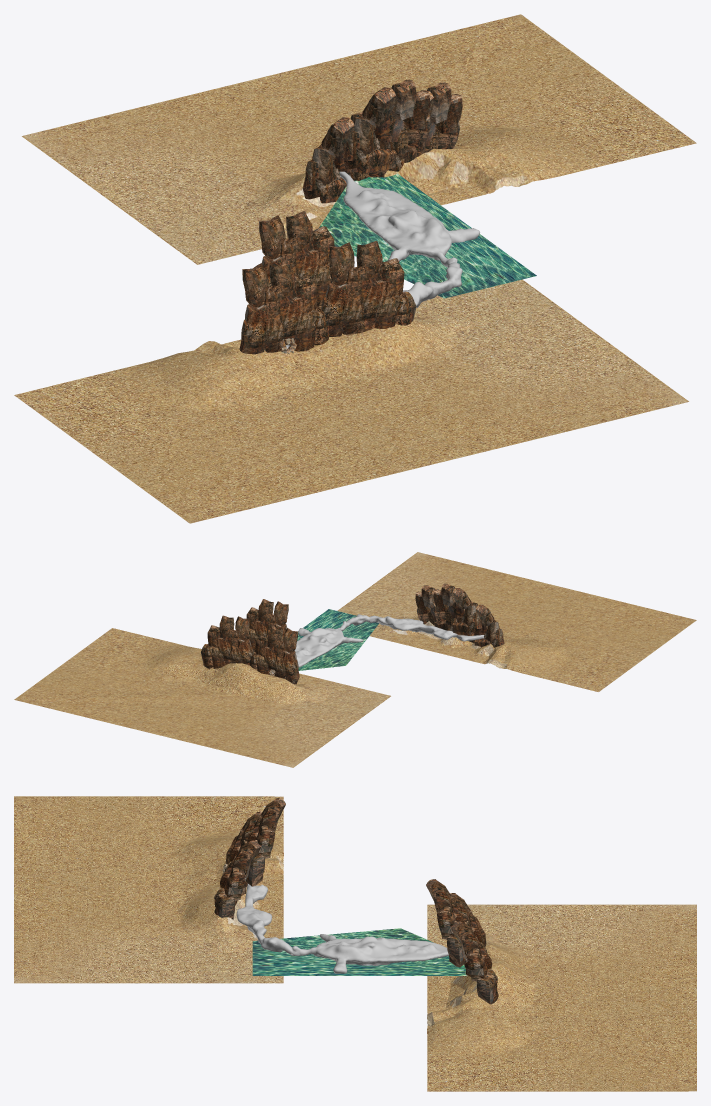
File: Map.fbx
3 views of the same model, one above another, from view 1: azimuth 30°, elevation 25°; view 2: azimuth 150°, elevation 25°; view 3: azimuth 270°, elevation 25° (orthographic). The views are drawn at different scales.
Parts seen in each view (by area): view 1: Plane.001, Cube.001, Plane, Cube; view 2: Plane.001, Cube.001, Cube, Plane; view 3: Plane.001, Cube.001, Cube, Plane.
Part boxes in pixels (x1=…): Plane.001: x1=14, y1=14, x2=696, y2=523; Cube.001: x1=239, y1=79, x2=462, y2=354; Plane: x1=319, y1=173, x2=536, y2=298; Cube: x1=283, y1=171, x2=479, y2=348; Plane.001: x1=14, y1=552, x2=696, y2=767; Cube.001: x1=200, y1=583, x2=504, y2=684; Cube: x1=271, y1=614, x2=484, y2=673; Plane: x1=297, y1=609, x2=378, y2=670; Plane.001: x1=14, y1=796, x2=696, y2=1091; Cube.001: x1=214, y1=798, x2=498, y2=1004; Cube: x1=236, y1=883, x2=448, y2=973; Plane: x1=252, y1=928, x2=466, y2=975.
Bounding box in the file's own units: 45361 × 7221 × 45062.
